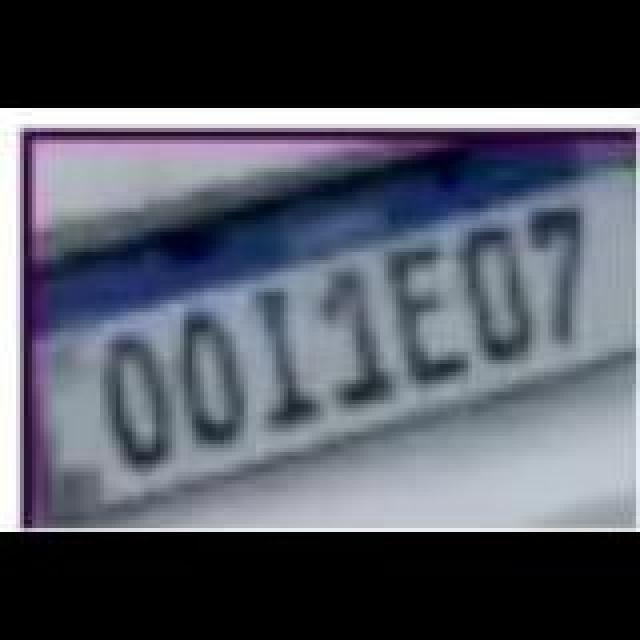1: (318, 268, 402, 412)
7: (530, 210, 598, 350)
D: (460, 224, 540, 368)
E: (386, 248, 470, 392)
I: (256, 288, 320, 432)
O: (100, 334, 180, 474), (178, 312, 254, 448)
